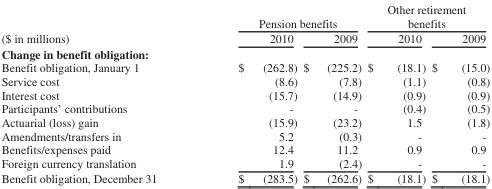table: (0, 0, 489, 185)
table column: (0, 0, 197, 185), (197, 0, 299, 185), (363, 0, 428, 185), (299, 0, 363, 185), (428, 0, 489, 185)
table column header: (0, 0, 489, 45)
table projected row header: (0, 45, 489, 60)
table row: (0, 0, 489, 30), (0, 30, 489, 45), (0, 45, 489, 60), (0, 155, 489, 170), (0, 170, 489, 185), (0, 73, 489, 87), (0, 100, 489, 114), (0, 114, 489, 128), (0, 141, 489, 155), (0, 60, 489, 73), (0, 87, 489, 100), (0, 128, 489, 141)
table spanning cell: (0, 0, 197, 45), (197, 0, 363, 30), (363, 0, 489, 30)
